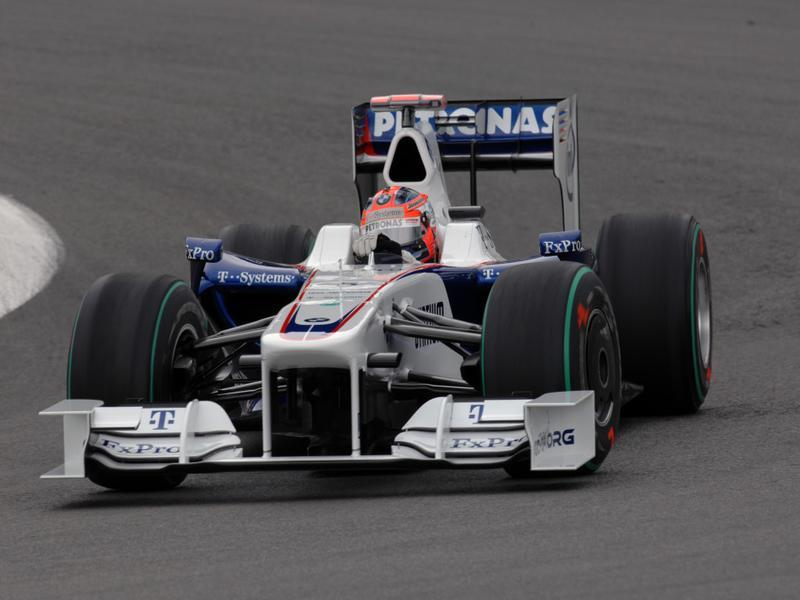f1: (60, 92, 725, 501)
